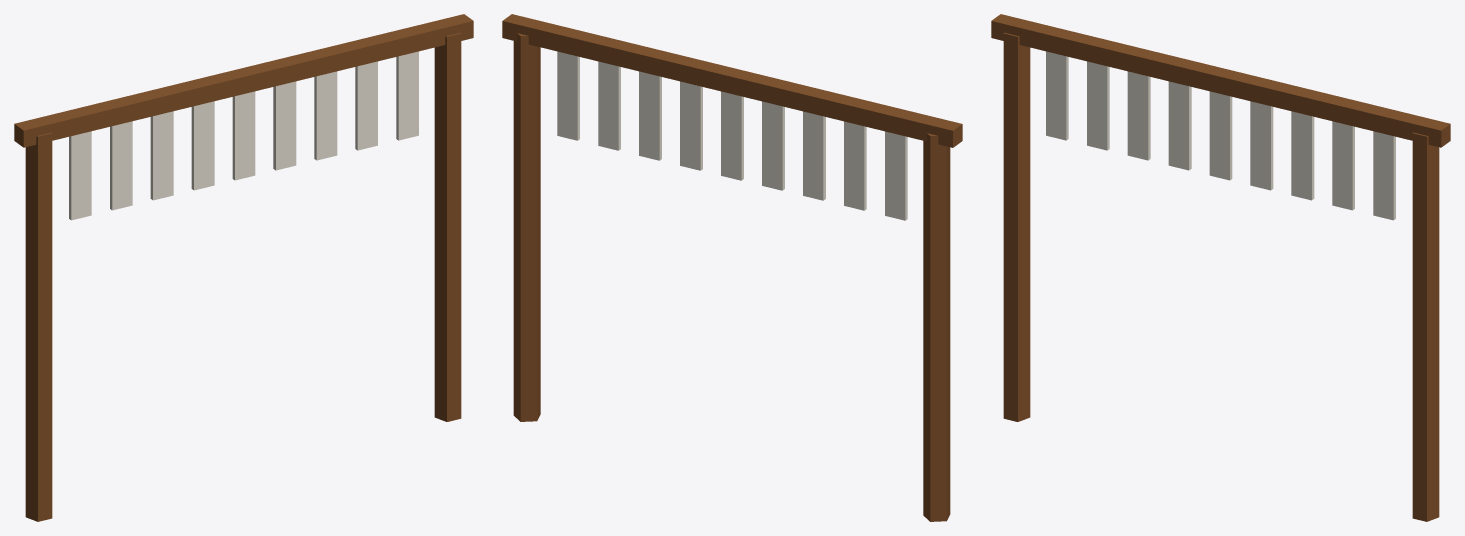
File: omikuji_rack.glb
3 renders of one model, left to right at view 1: azimuth 30°, elevation 25°; view 2: azimuth 150°, elevation 25°; view 3: azimuth 330°, elevation 25°, orthographic.
Visible parts, largest first — view 1: omikuji_rack; view 2: omikuji_rack; view 3: omikuji_rack.
Boxes of the visible parts, x1=… form: omikuji_rack: x1=14, y1=14, x2=473, y2=521; omikuji_rack: x1=502, y1=14, x2=962, y2=521; omikuji_rack: x1=991, y1=14, x2=1450, y2=521.
Bounding box in the file's own units: 2.2 × 1.84 × 0.1085.
